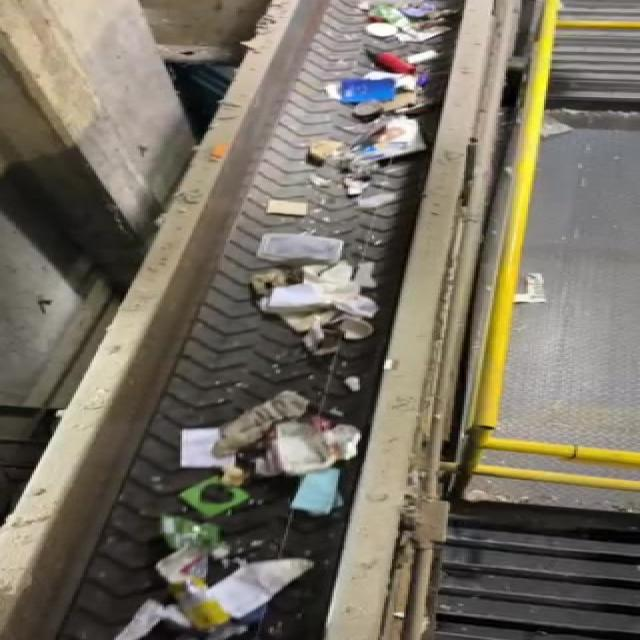paper: (312, 476, 314, 477)
pet: (211, 381, 311, 470)
